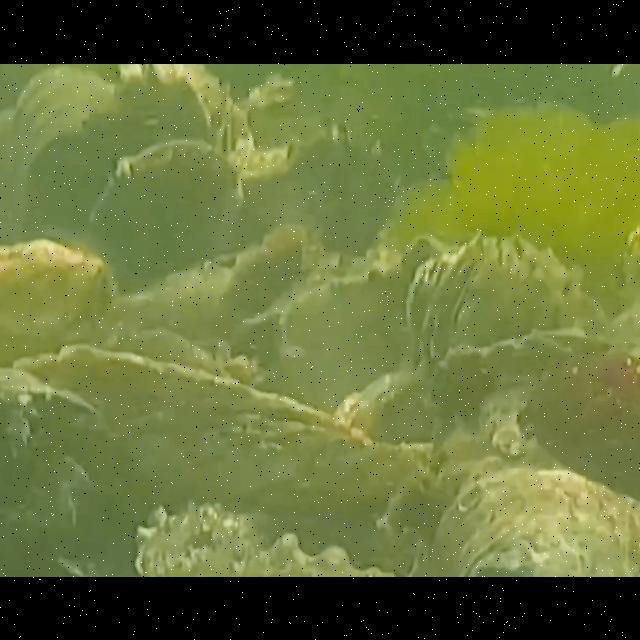Oyster-Closed: (8, 342, 362, 503), (333, 326, 622, 454), (429, 444, 640, 576), (402, 229, 582, 369), (91, 140, 243, 294), (272, 263, 412, 411), (127, 502, 396, 576), (273, 128, 395, 270), (0, 238, 114, 366), (0, 362, 92, 448)
